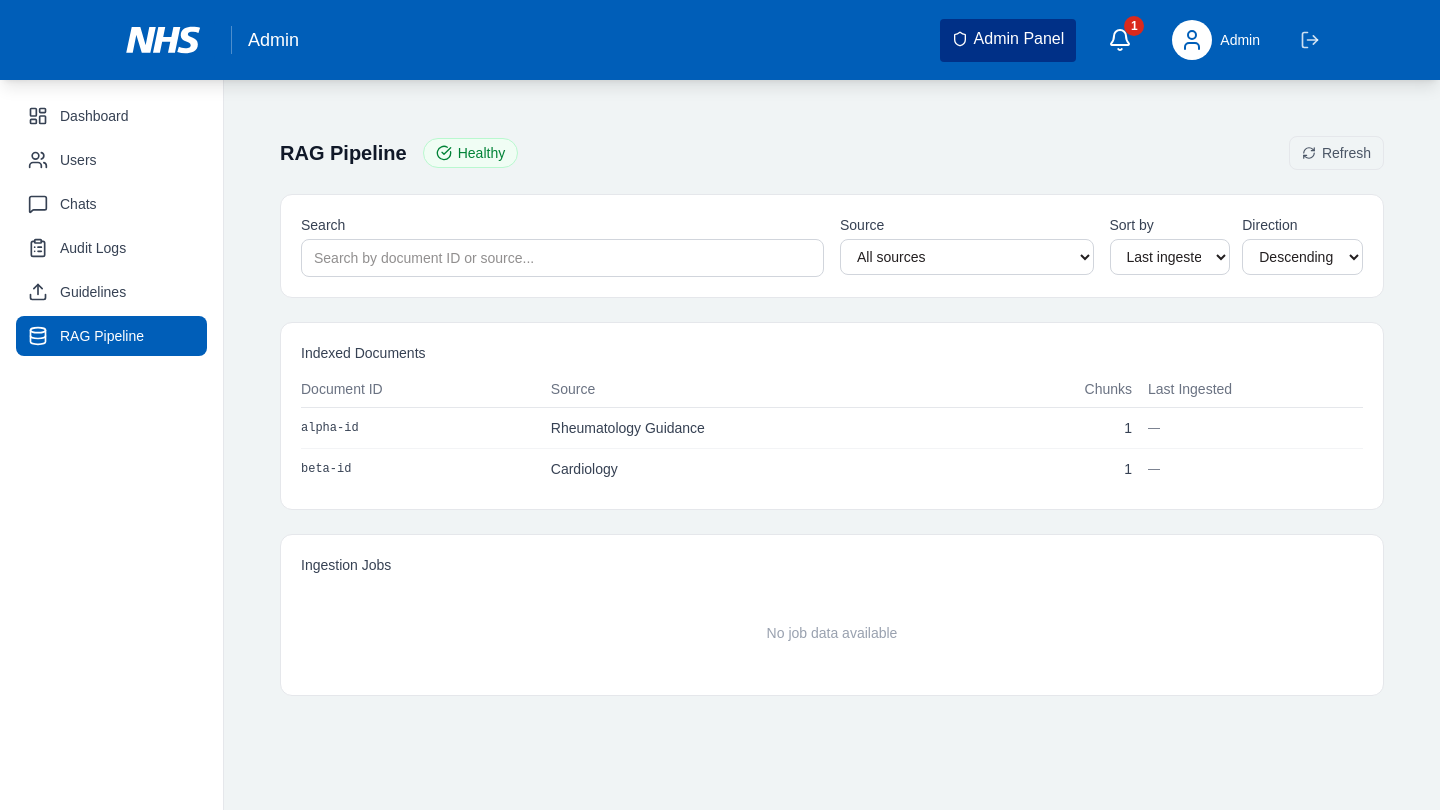
it: AdminRagPage — search, filter, and sort › matches search terms against source names when document id does not match
Expected: the text "alpha-id" is shown, [301,408,551,448]
Type "rheumatology" into the field labelled "Search" at (562, 258), box [301,239,824,277]
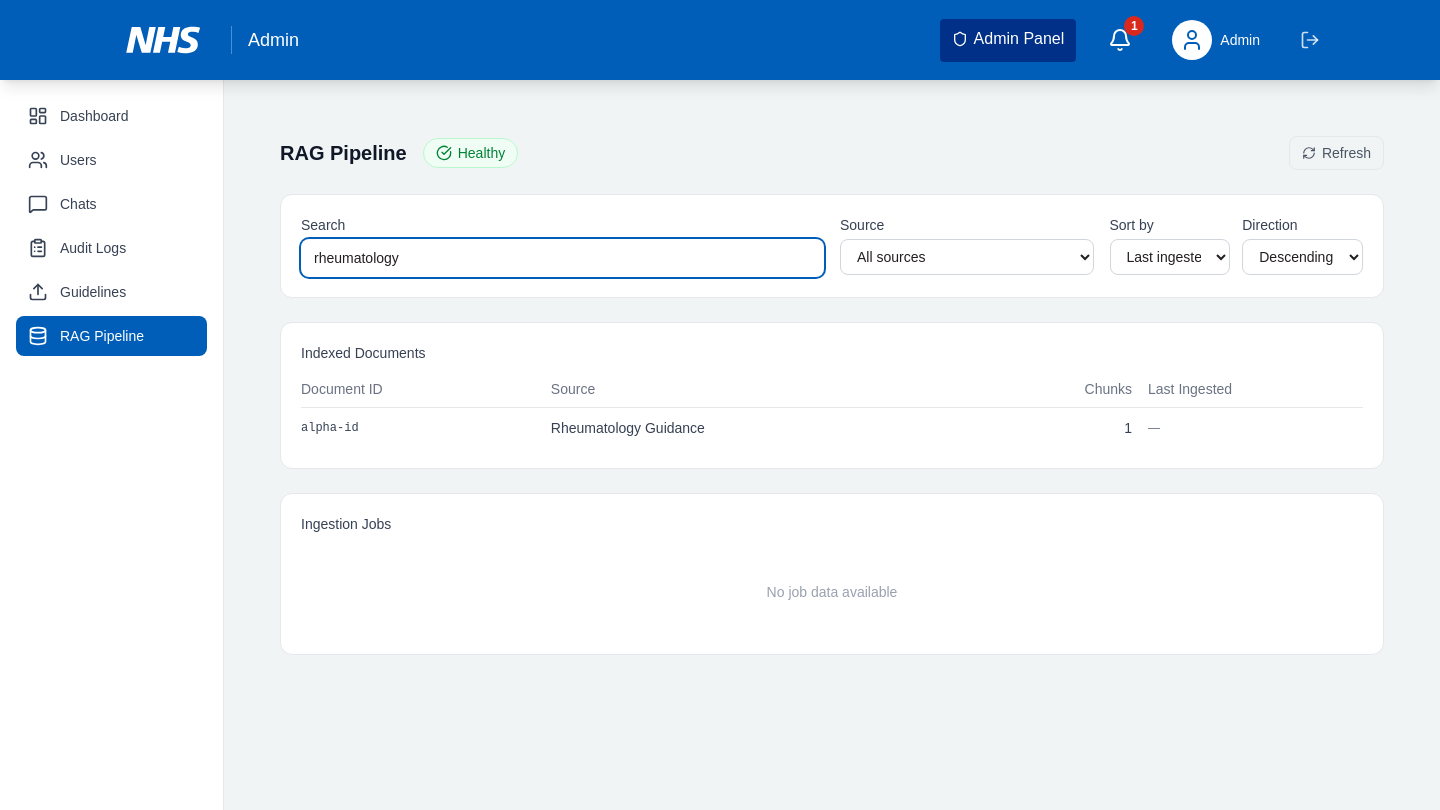
Expected: the text "alpha-id" is shown, [301,408,551,448]
Now the text "beta-id" is gone
